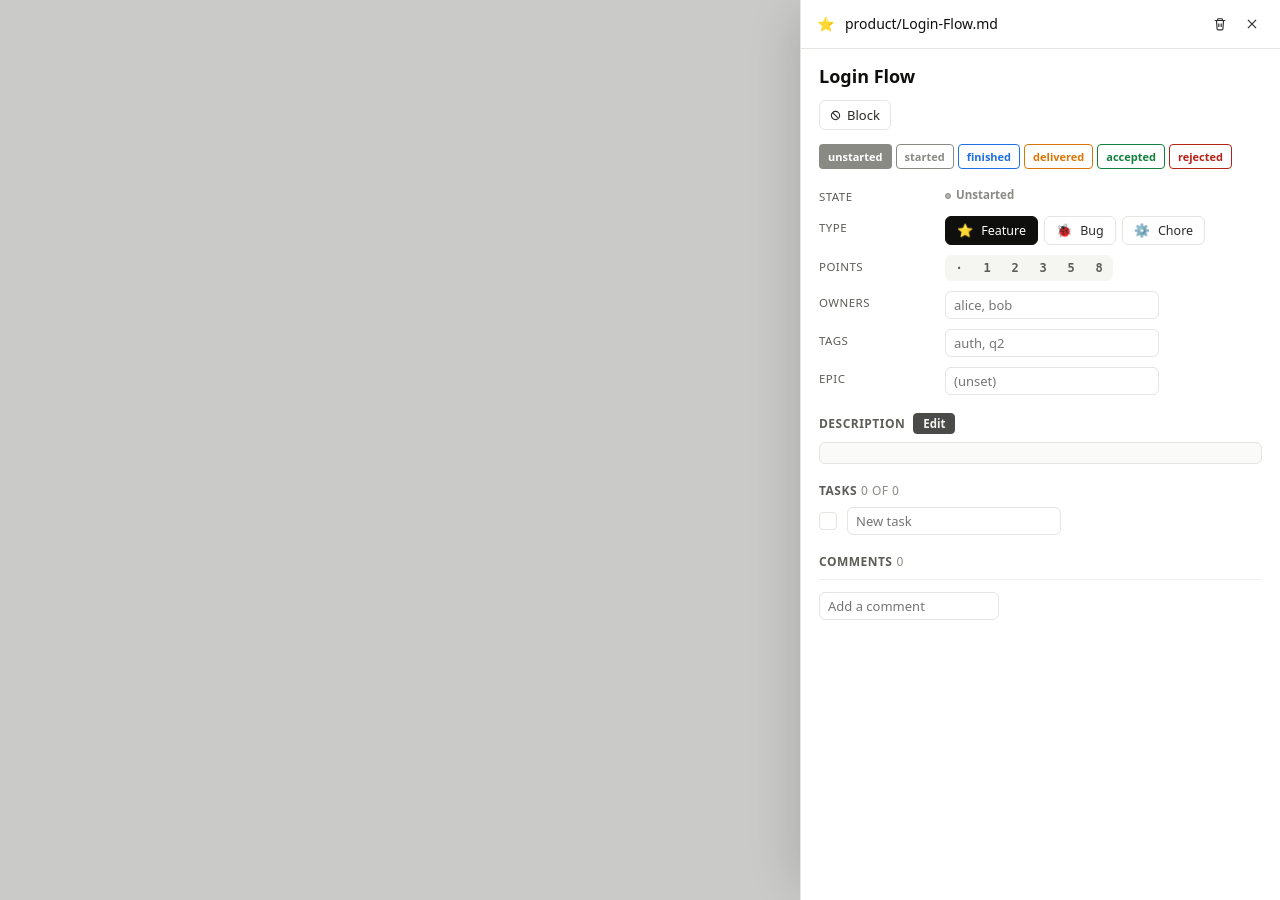
Scenario: DetailPanel: Delete affordance › confirm ceremony quotes the story title
The image size is (1280, 900).
Click the button named "Delete story" at point(1220, 24), box [1206,10,1234,38]
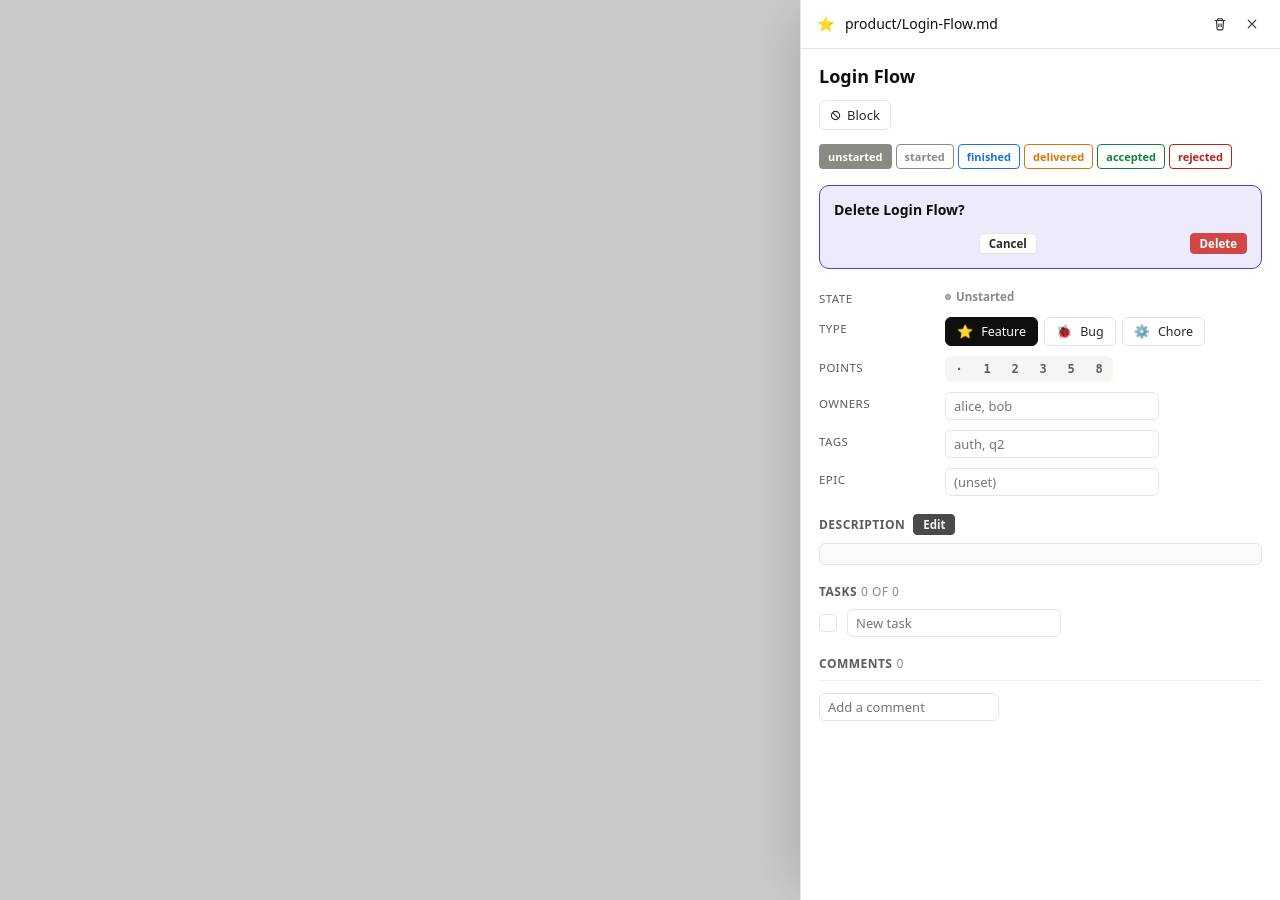
Expected: the dialog named "confirm delete" shows "Login Flow", [883,200,958,219]
